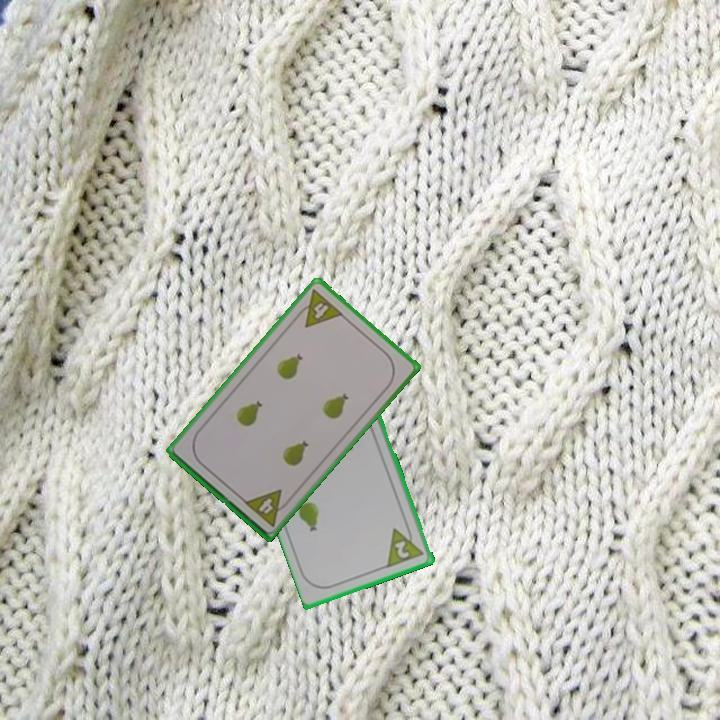2p: (384, 521, 427, 570)
4p: (291, 285, 346, 330), (240, 485, 294, 529)
